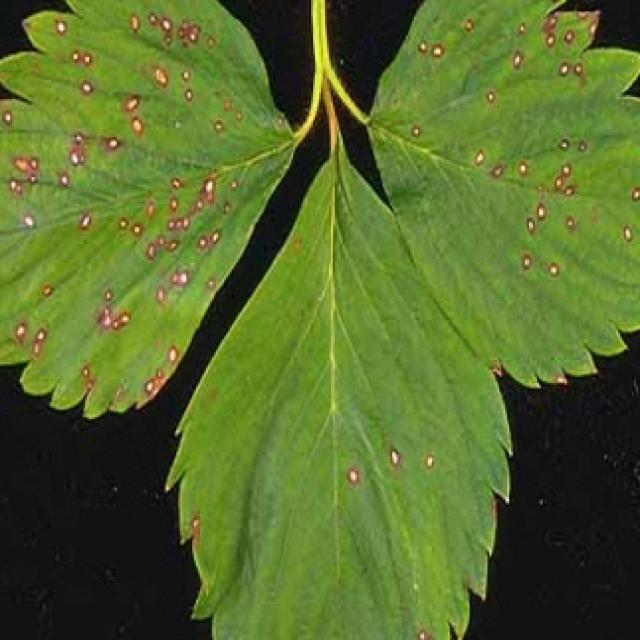Leaf Spot: (164, 131, 513, 640), (0, 0, 295, 421), (368, 0, 640, 387)
